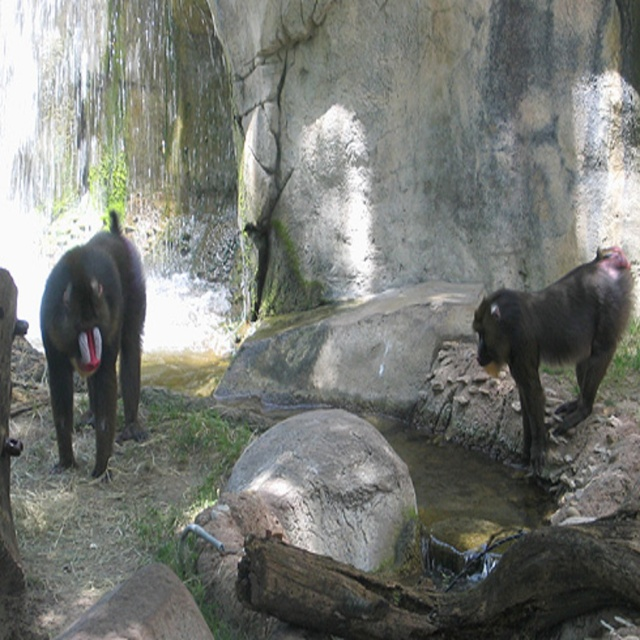Monkey: (481, 249, 630, 476), (35, 210, 152, 476)
